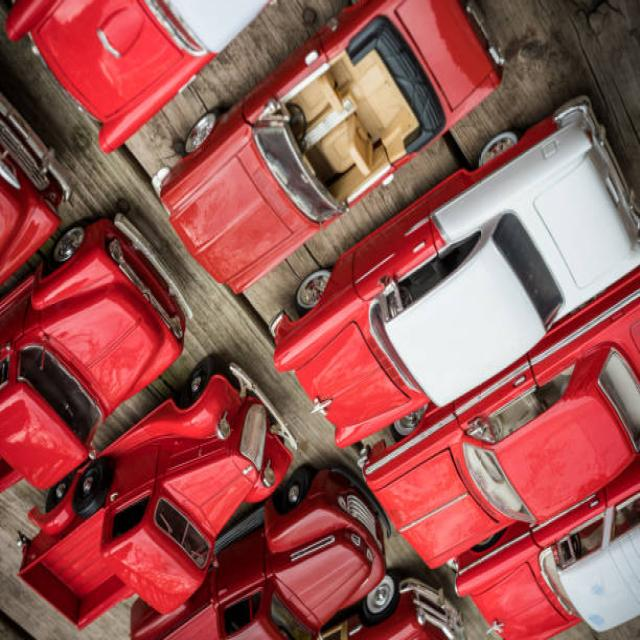Car: (268, 95, 639, 450), (150, 2, 505, 296), (357, 260, 639, 572), (15, 356, 298, 632), (0, 201, 192, 501), (128, 466, 391, 640), (3, 1, 279, 155), (452, 432, 639, 640), (312, 570, 468, 640)
